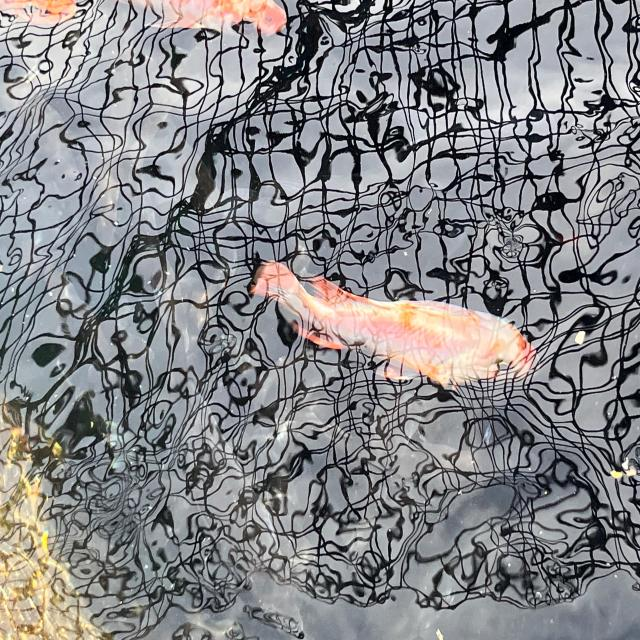ikan: (247, 258, 537, 390), (125, 0, 288, 37)
